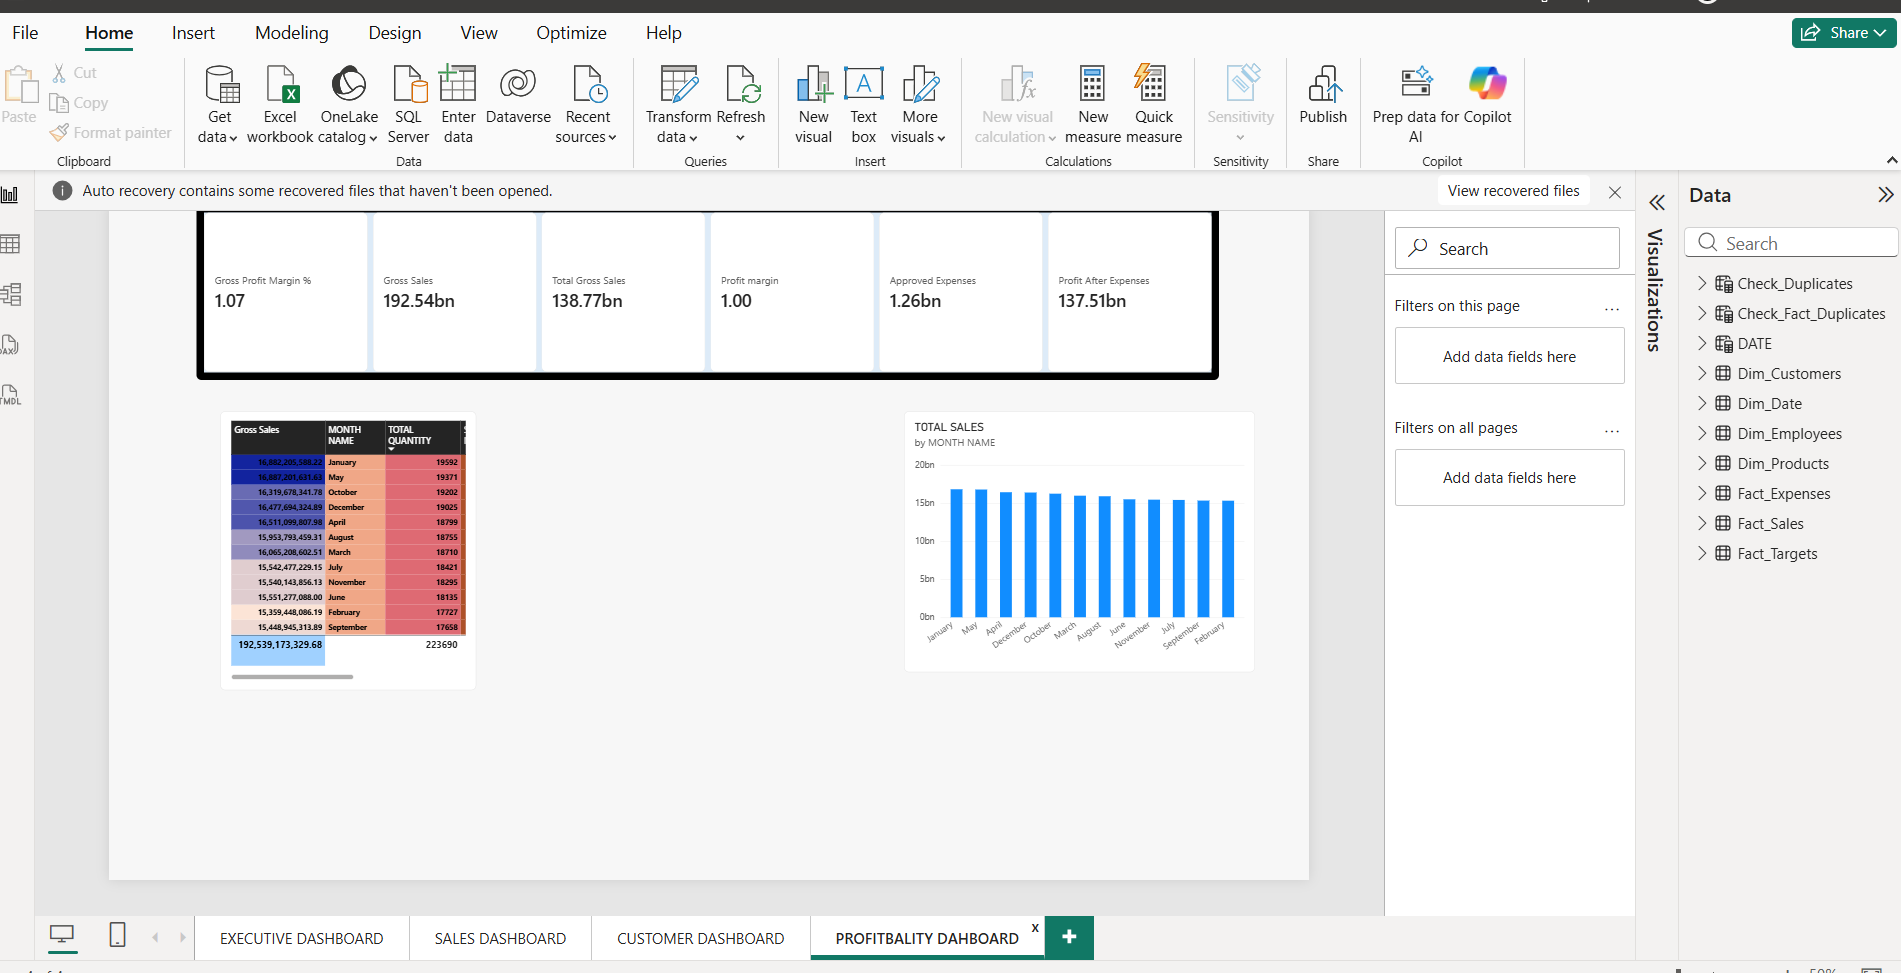

This screenshot's page, from the dashboard's own definition file:
{"tool":"powerbi","page":{"name":"PROFITBALITY DAHBOARD ","canvas":[1920,1080],"ordinal":3},"visuals":[{"type":"cardVisual","fields":{"Data":["DATE.Gross Profit Margin %","DATE.Gross Sales","DATE.Total Gross Sales","DATE.Profit margin","DATE.Approved Expenses","DATE.Profit After Expenses"]},"box":[140,0,1636.4,279.9],"z":0},{"type":"tableEx","fields":{"Values":["DATE.Gross Sales","DATE.MONTH NAME","DATE.TOTAL QUANTITY","DATE.SALES EACH MONTH","DATE.TOTAL EXPENSES EACH MONTH"]},"box":[177,329.3,409.6,446.7],"z":1},{"type":"lineStackedColumnComboChart","fields":{"Category":["DATE.MONTH NAME"],"Y":["DATE.TOTAL SALES"]},"box":[1272,329.3,561.9,417.8],"z":2}]}

Visuals, with their boxes on the page's 1920x1080 design canvas (x1, y1, x2, y2). These are canvas units, not pixel positions in the 1901x973 screenshot, which may show the page scaled, cropped or inside an application window:
cardVisual - DATE.Gross Profit Margin % x DATE.Gross Sales: pyautogui.locateOnScreen(140, 0, 1776, 280)
tableEx - DATE.Gross Sales x DATE.MONTH NAME: pyautogui.locateOnScreen(177, 329, 587, 776)
lineStackedColumnComboChart - DATE.MONTH NAME x DATE.TOTAL SALES: pyautogui.locateOnScreen(1272, 329, 1834, 747)
